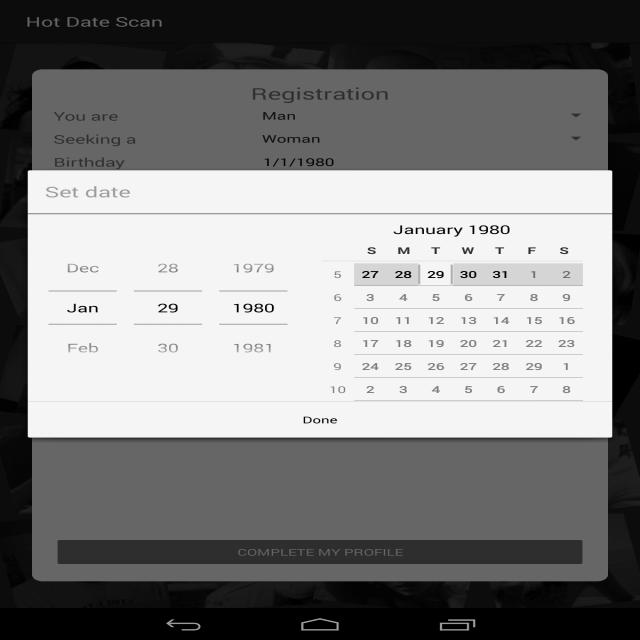Button: (28, 402, 612, 438), (48, 323, 117, 368), (219, 323, 288, 368), (134, 323, 202, 368), (48, 248, 117, 292), (219, 248, 288, 292), (134, 248, 202, 292)
EditText: (48, 292, 117, 324), (219, 292, 288, 324), (134, 292, 202, 324)
ImageView: (322, 261, 583, 261)
TextView: (45, 182, 595, 201), (393, 214, 511, 244), (419, 244, 452, 257), (548, 244, 581, 257), (324, 244, 356, 257), (356, 244, 388, 257), (388, 244, 420, 257), (452, 244, 484, 257), (484, 244, 516, 257), (516, 244, 548, 257)
